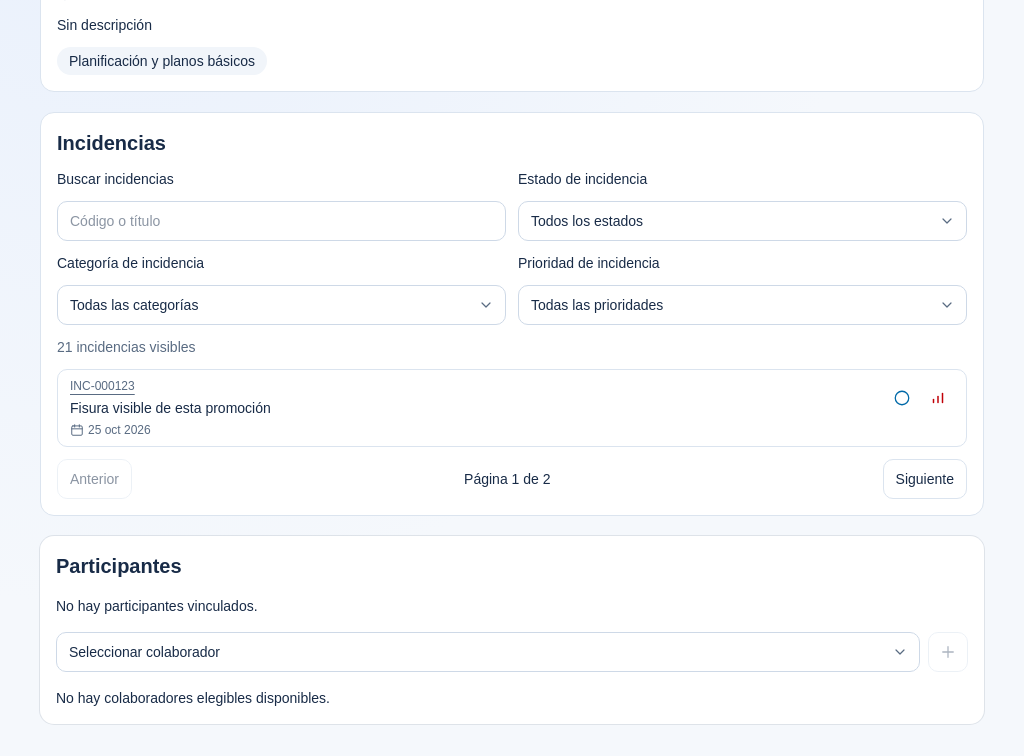
Scenario: preserves the search focus when a filter supersedes a pending page request
(page scrolled)
Expected: the text "Fisura visible de esta promoción" is shown, [70, 400, 271, 416]
Click the button with aria-label "Siguiente página de incidencias" at {"x": 925, "y": 479}, box [883, 459, 967, 499]
(page scrolled)
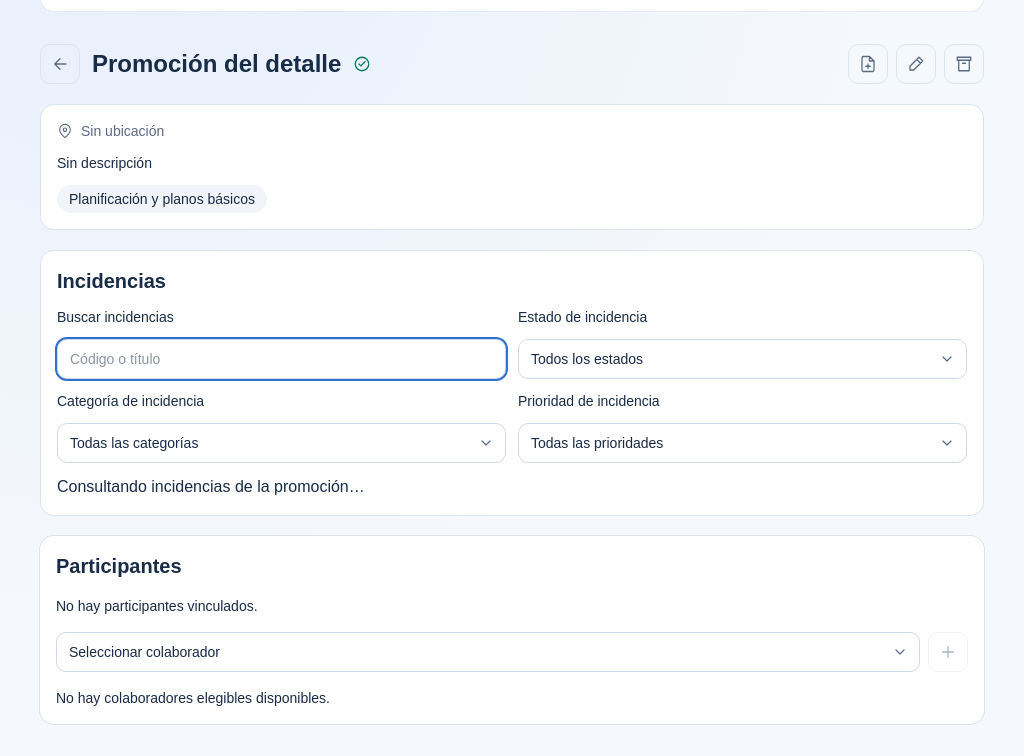
Type "vigente" into the search field labelled "Buscar incidencias" at {"x": 282, "y": 359}, box [57, 339, 506, 379]
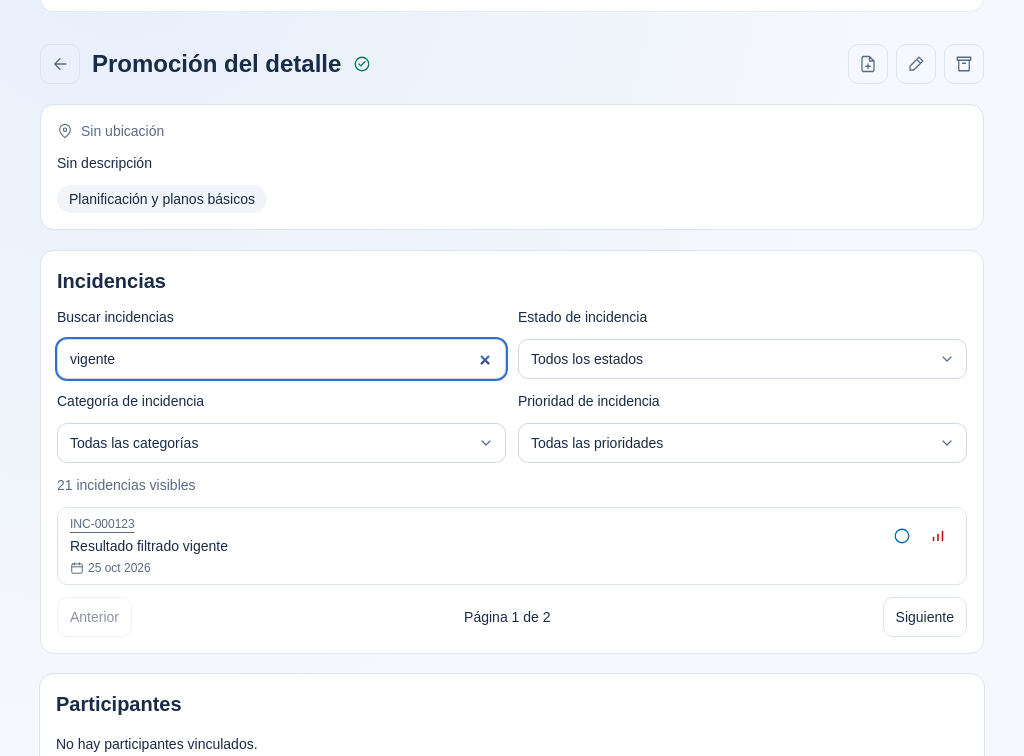
Result: the text "Resultado filtrado vigente" is shown at [70, 538, 228, 554]
